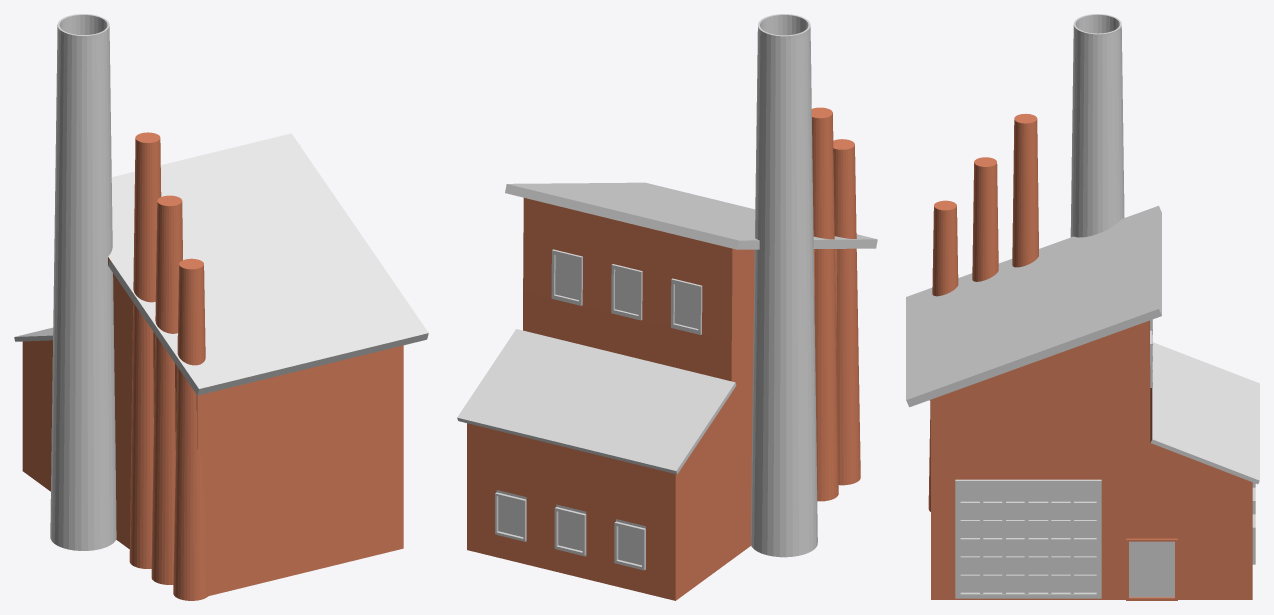
File: factory.fbx
The picture shows the model from 3 angles, left to right: view 1: azimuth 30°, elevation 25°; view 2: azimuth 150°, elevation 25°; view 3: azimuth 270°, elevation 25°; orthographic projection. The views are drawn at different scales.
Parts seen in each view (by area): view 1: Cube, Cylinder.003, Cylinder.002, Cylinder, Cylinder.001; view 2: Cube, Cylinder.003, Cylinder.001, Cylinder; view 3: Cube, Cylinder.003, Cylinder.002, Cylinder.001, Cylinder.
Boxes of the visible parts, left/top/right/bottom form: Cube: left=14, top=133, right=428, bottom=596; Cylinder.003: left=50, top=14, right=116, bottom=550; Cylinder.002: left=129, top=132, right=161, bottom=568; Cylinder: left=173, top=258, right=207, bottom=600; Cylinder.001: left=151, top=195, right=182, bottom=584; Cube: left=457, top=182, right=877, bottom=600; Cylinder.003: left=751, top=14, right=817, bottom=557; Cylinder.001: left=811, top=107, right=838, bottom=501; Cylinder: left=833, top=139, right=860, bottom=485; Cube: left=906, top=205, right=1259, bottom=600; Cylinder.003: left=1070, top=14, right=1124, bottom=237; Cylinder.002: left=1012, top=113, right=1038, bottom=267; Cylinder.001: left=972, top=157, right=998, bottom=281; Cylinder: left=928, top=200, right=958, bottom=511.
Bounding box in the file's own units: 262 × 476 × 322.
